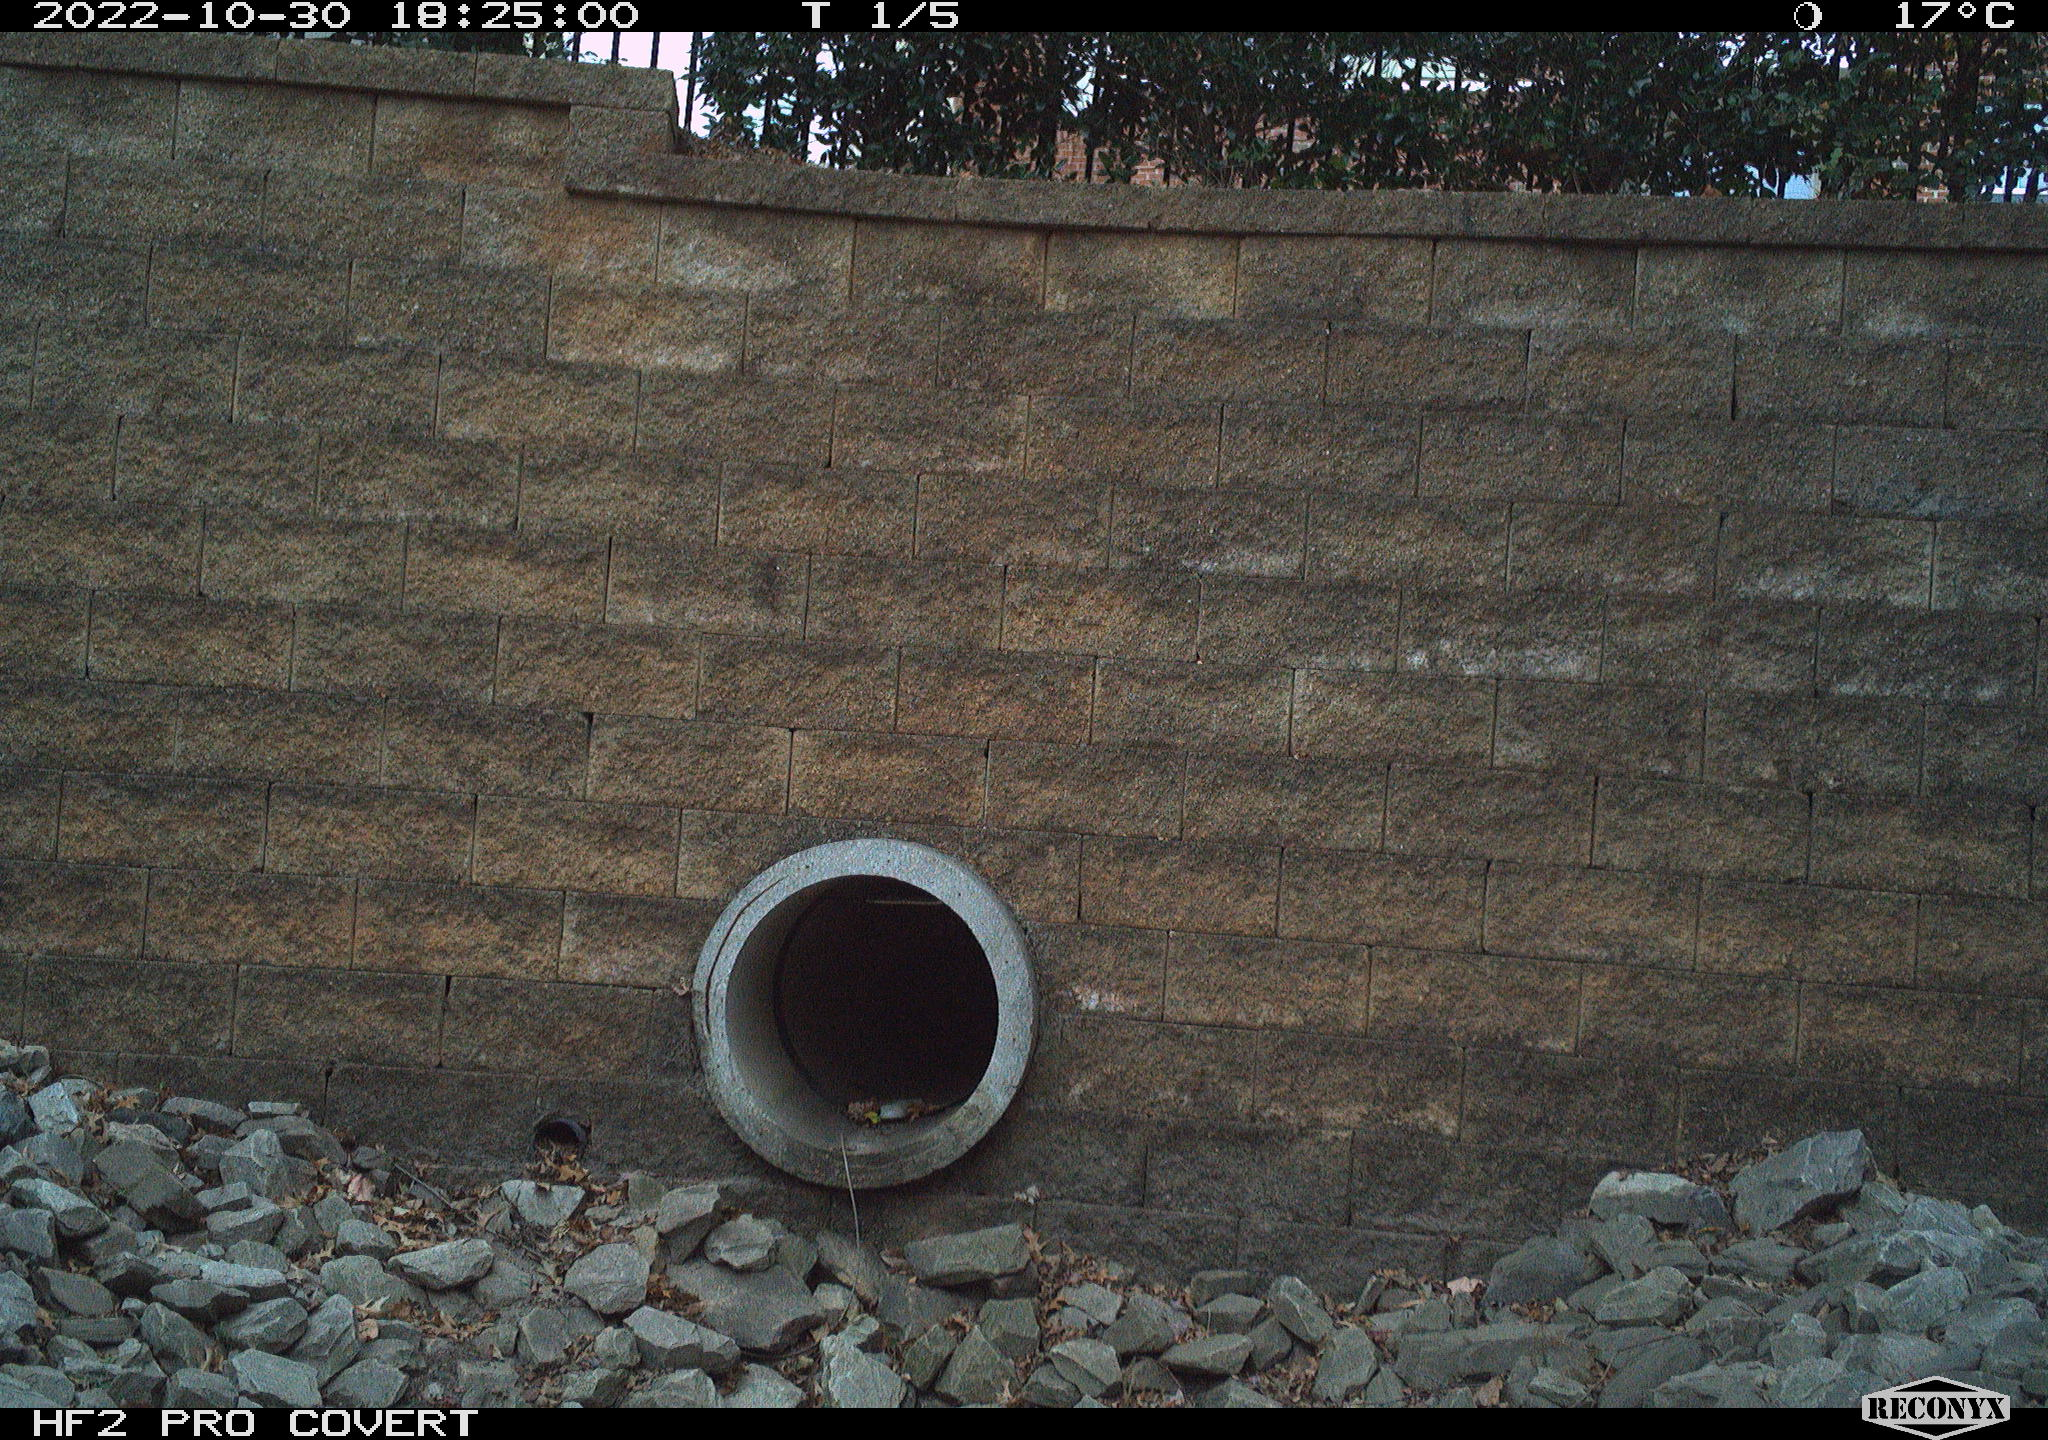Empty Outlet: (726, 874, 999, 1153)
